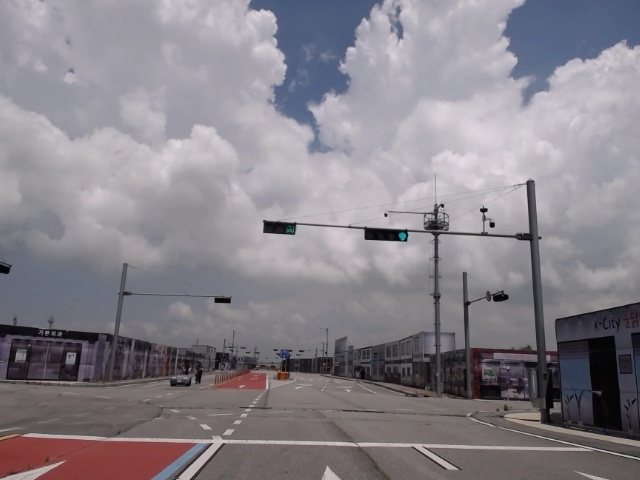straight_green_4: (364, 227, 410, 242)
